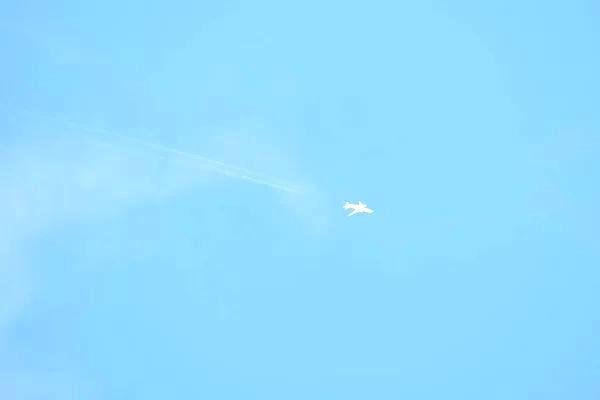Plane: (328, 194, 391, 224)
